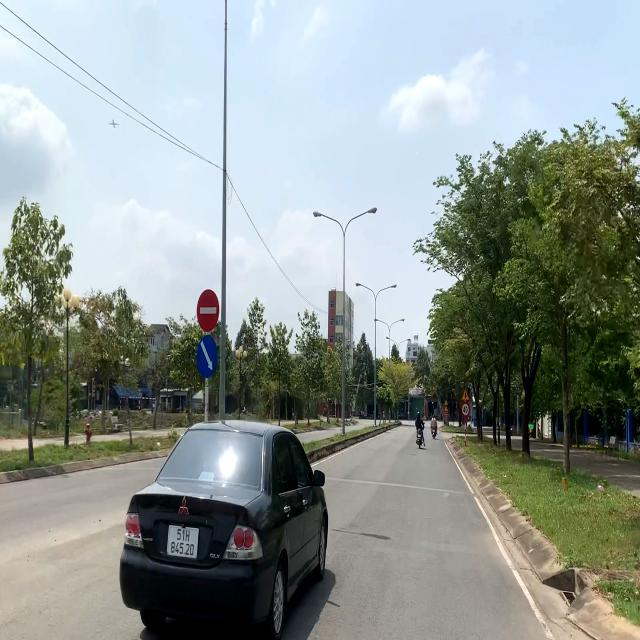Cam di nguoc chieu: (196, 286, 220, 334)
Giao nhau voi duong khong uu tien ben phai: (462, 388, 469, 401)
Toc do toi da cho phep: (462, 403, 469, 417)
Vong chuong ngai vat sang phai: (194, 334, 218, 378)
